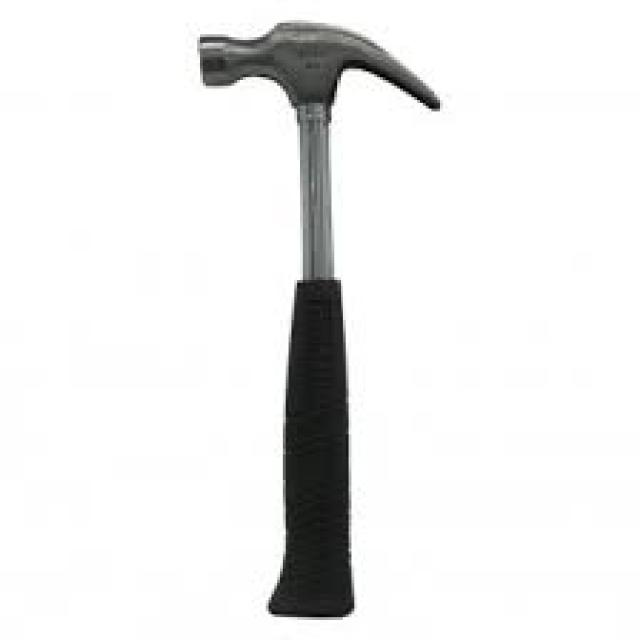hammer: (161, 4, 463, 508)
